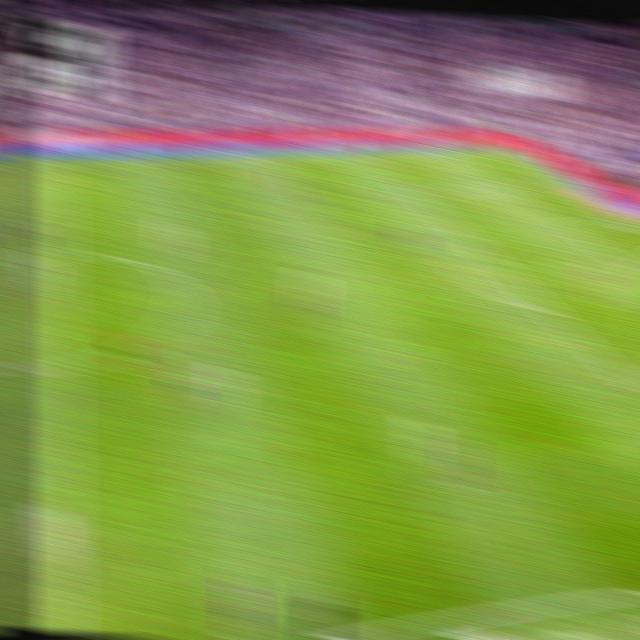bigarea_top_inner: (406, 183, 429, 200)
bottom_arc_area_intersection: (534, 300, 560, 318)
corner: (487, 141, 512, 154)
halfcircle_bottom: (45, 350, 76, 379)
halfcircle_top: (42, 239, 73, 265)
midline_top_intersection: (42, 153, 67, 170)
smallarea_top_inner: (557, 218, 579, 232)
top_arc_area_intersection: (455, 229, 480, 246)
